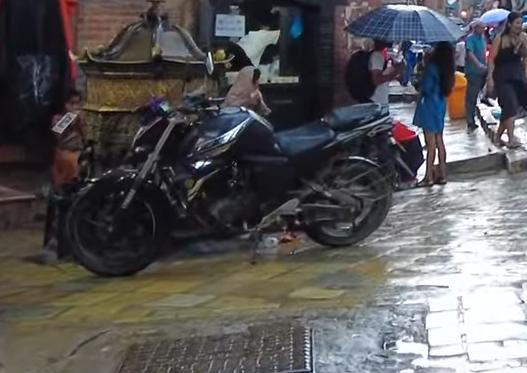bike: (63, 75, 407, 279)
